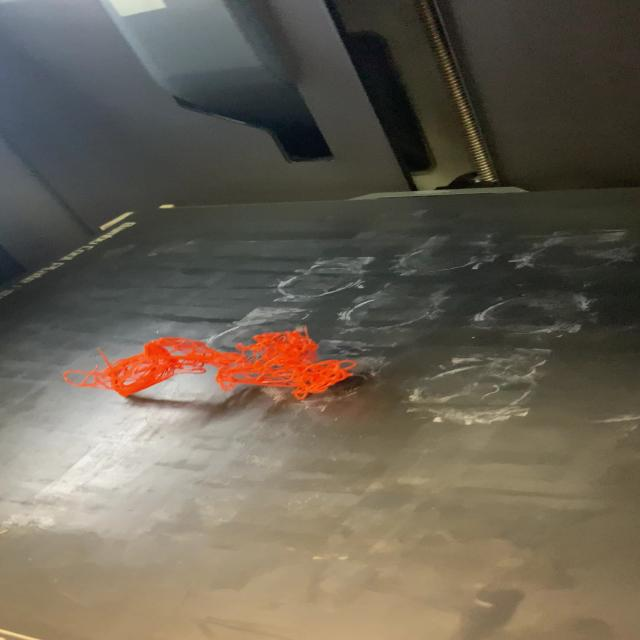spaghetti: (60, 322, 362, 403)
